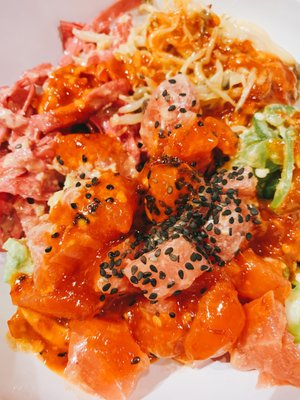sandwich: (0, 2, 300, 396)
